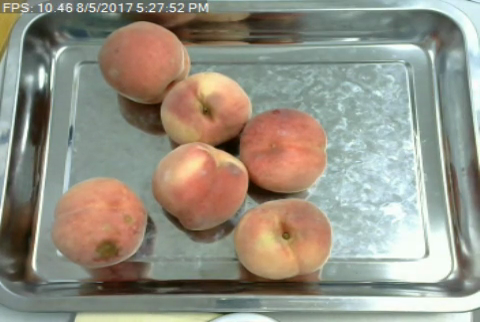Peach: (50, 175, 148, 268), (153, 141, 248, 232), (232, 198, 332, 281), (99, 21, 190, 106), (239, 107, 329, 192), (158, 69, 250, 150)
